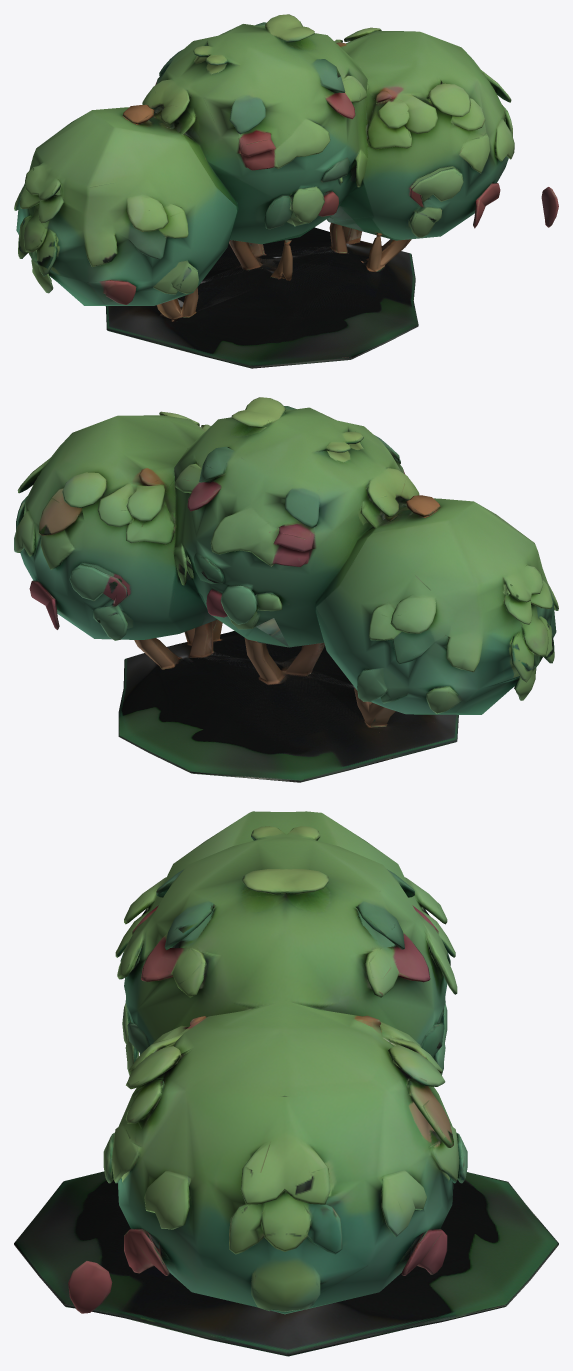
File: Meshy_AI_Poly_Forest_Trio_0131112017_texture.fbx
3 views of the same model, one above another, from view 1: azimuth 30°, elevation 25°; view 2: azimuth 150°, elevation 25°; view 3: azimuth 270°, elevation 25° (orthographic). The views are drawn at different scales.
Parts seen in each view (by area): view 1: Mesh_0; view 2: Mesh_0; view 3: Mesh_0.
Part boxes in pixels (bbox=[...]): Mesh_0: bbox=[14, 14, 558, 368]; Mesh_0: bbox=[14, 397, 558, 782]; Mesh_0: bbox=[14, 811, 558, 1356].
Bounding box in the file's own units: 200 × 105 × 132.
1 material, 1 textured.
